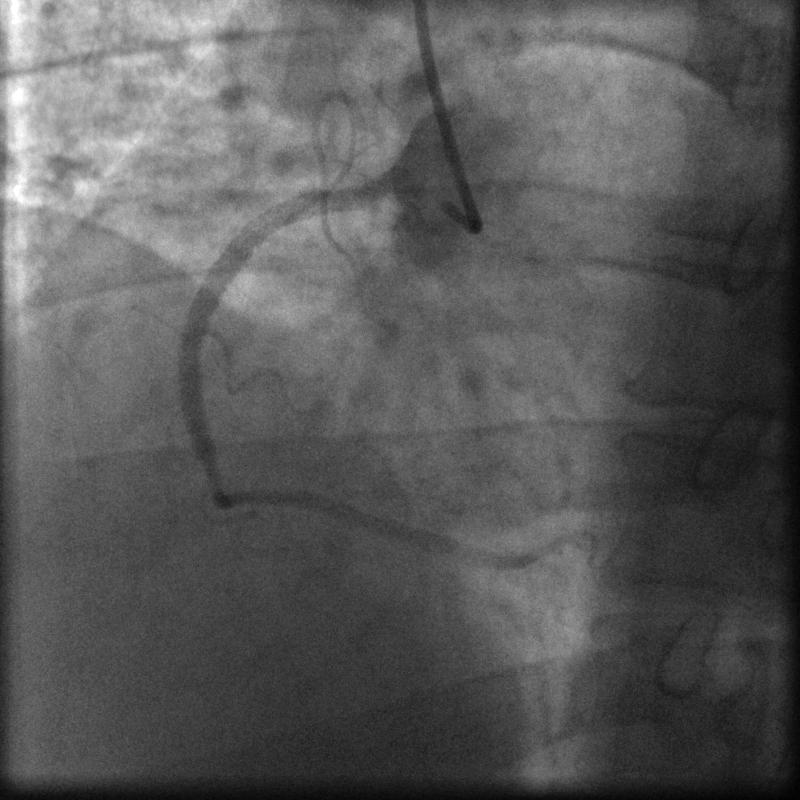Stenosis: (189, 433, 222, 513)
